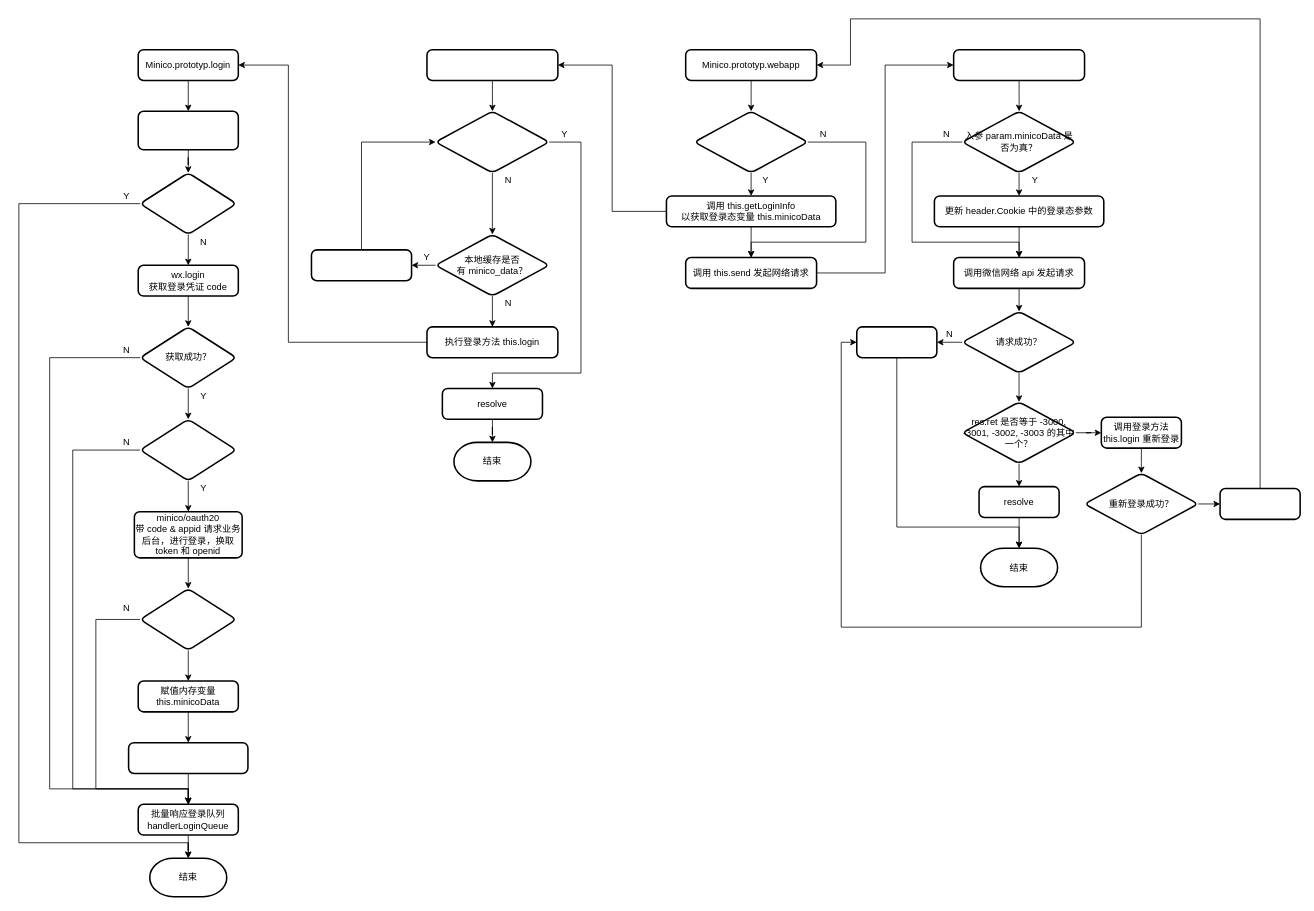
This 1314x911 diagram has some shape labels left out. The box of each missing label's shape, as (x1, y1, x2, y2) in pixels:
code 不为空: (139, 418, 237, 481)
Minico.prototyp.getLoginInfo: (426, 49, 558, 81)
Minico.prototyp.send: (952, 49, 1085, 81)
reject: (856, 326, 937, 358)
wx.setStorageSync 写入本地缓存 minico_data: (127, 742, 248, 774)
入参 param.withCredentials 是否为真？: (693, 110, 808, 173)
内存变量 this.minicoData 是否为真？: (434, 110, 550, 173)
往登录队列 this.handlerLoginQueue 新增一项: (137, 110, 239, 150)
是否正在登录？: (139, 172, 237, 235)
登录鉴权成功？: (139, 588, 237, 651)
赋值给内存变量 this.minicoData: (310, 249, 412, 281)
重新调用 this.webapp 发送请求: (1219, 487, 1301, 520)
